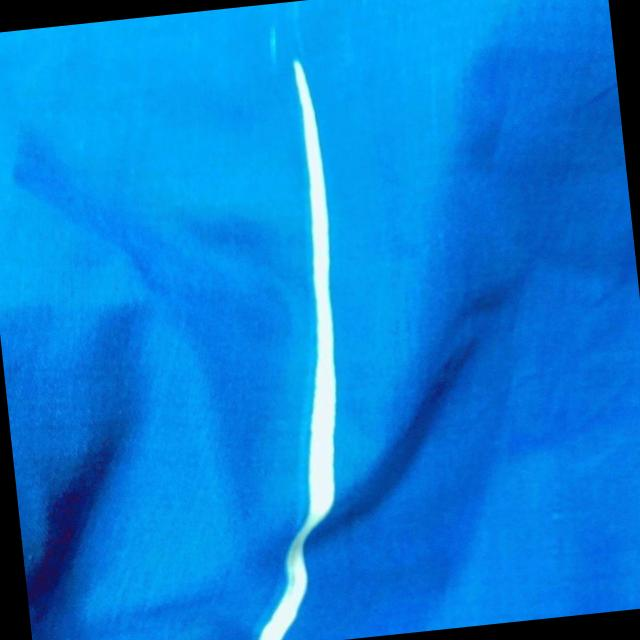selvet: (278, 51, 363, 462), (229, 459, 349, 640)
